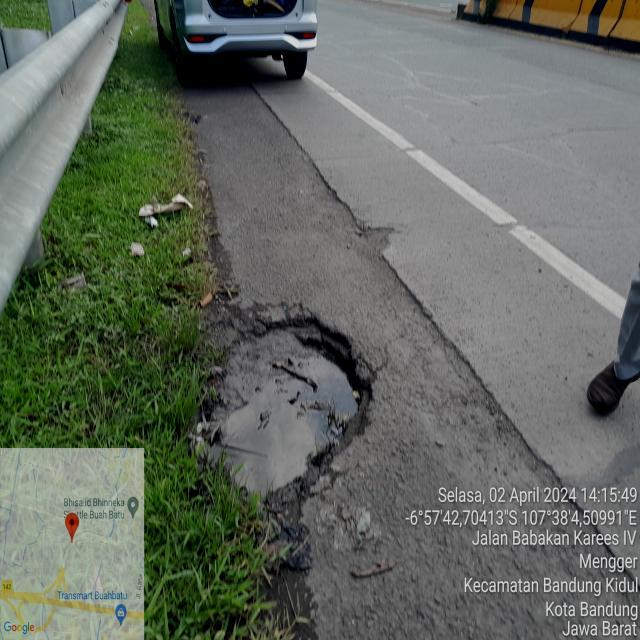Buraco: (172, 312, 381, 522), (352, 225, 398, 253)
